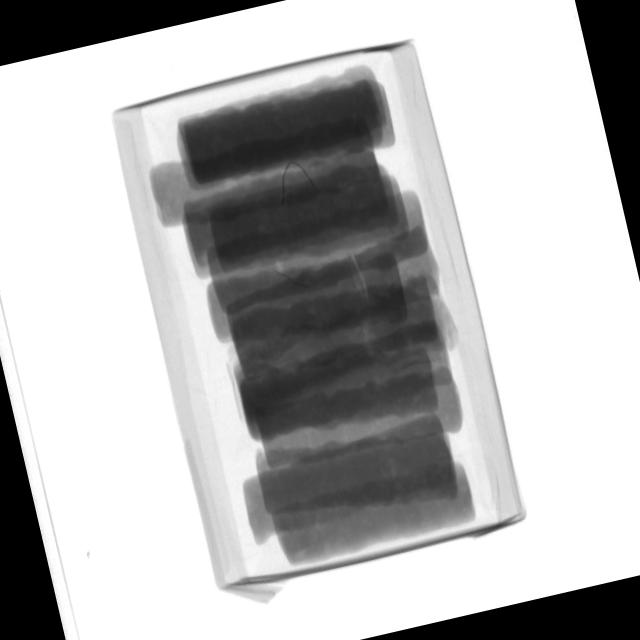ym: (273, 152, 320, 210)
